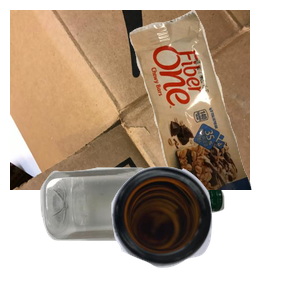cardboard: (10, 10, 250, 190)
glass: (109, 164, 300, 300)
plastic: (38, 165, 255, 300)
trash: (127, 10, 300, 190)
